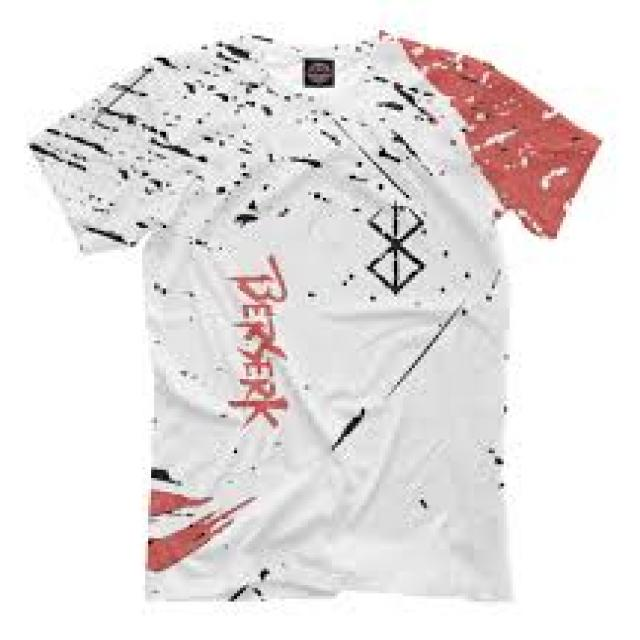Shirt: (6, 24, 601, 632)
